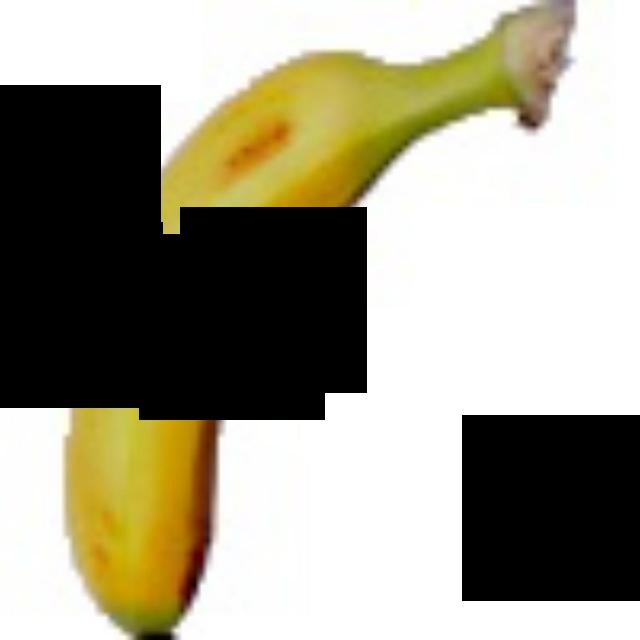banana: (51, 0, 615, 634)
